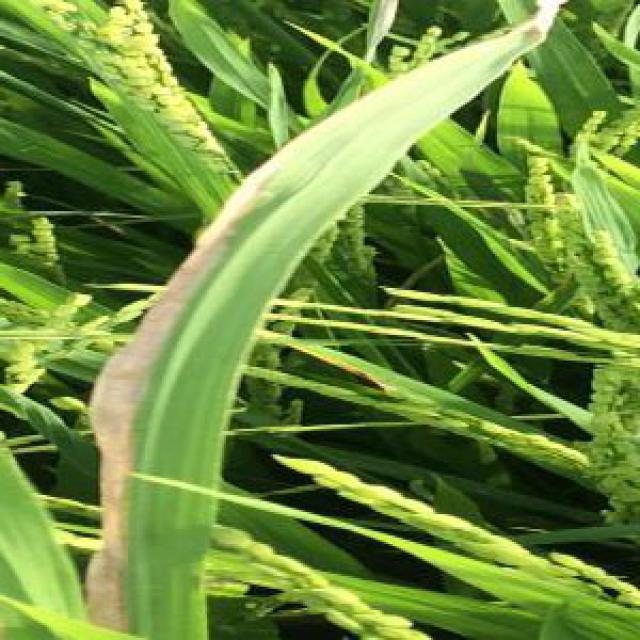Bacterial_Blight: (84, 0, 562, 640)
